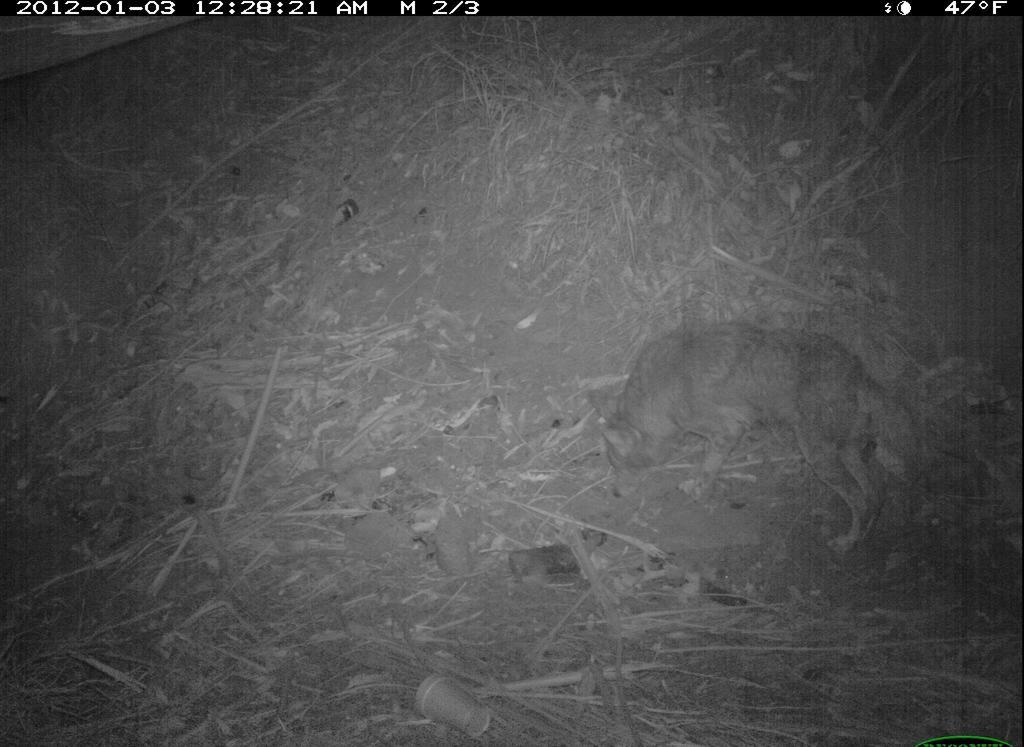coyote: (577, 305, 958, 566)
